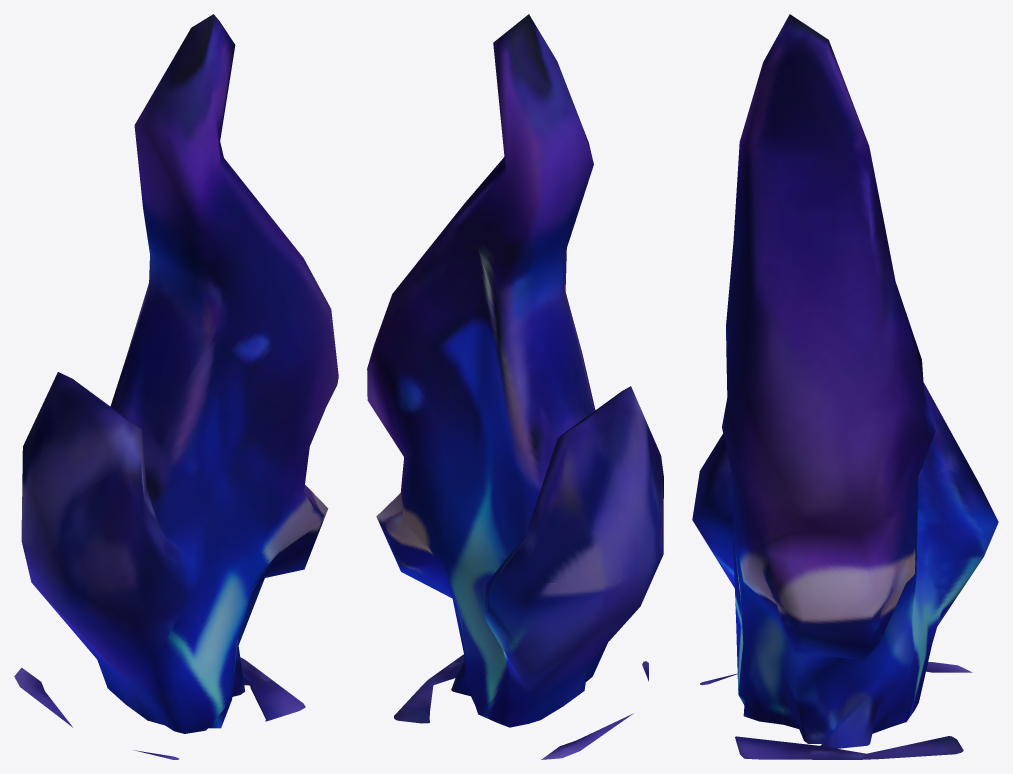
File: FuegoAzul.fbx
The picture shows the model from 3 angles, left to right: view 1: azimuth 30°, elevation 25°; view 2: azimuth 150°, elevation 25°; view 3: azimuth 270°, elevation 25°; orthographic projection. The views are drawn at different scales.
Visible parts, largest first — view 1: tripo_node_c68cce21-29e6-43cb-a5c5-d003abd1705f; view 2: tripo_node_c68cce21-29e6-43cb-a5c5-d003abd1705f; view 3: tripo_node_c68cce21-29e6-43cb-a5c5-d003abd1705f.
Part boxes in pixels (<box>): tripo_node_c68cce21-29e6-43cb-a5c5-d003abd1705f: <box>14,14,338,759</box>; tripo_node_c68cce21-29e6-43cb-a5c5-d003abd1705f: <box>367,14,663,759</box>; tripo_node_c68cce21-29e6-43cb-a5c5-d003abd1705f: <box>692,14,998,759</box>.
Bounding box in the file's own units: 8.91 × 20.91 × 8.18.
Materials: 1 (1 with a texture image).
